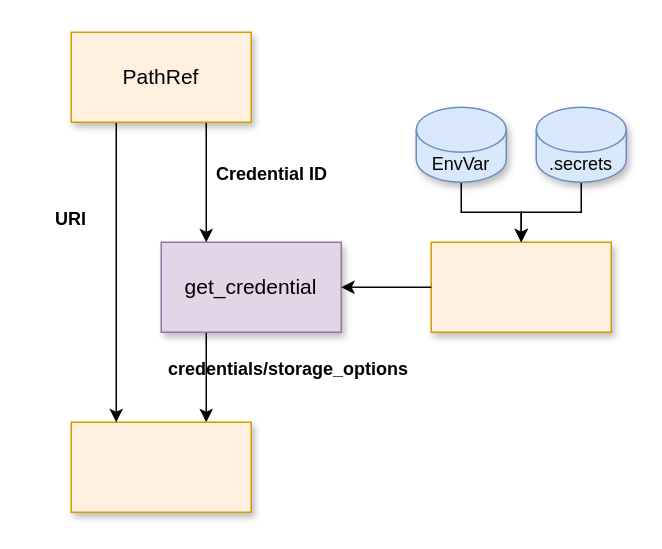
Some shapes in this 662 by 549 pixel diagram are drawn without their labels. Each missing label, with the centre of its shape:
CredentialProvider: [522,289]
UPath: [162,469]
